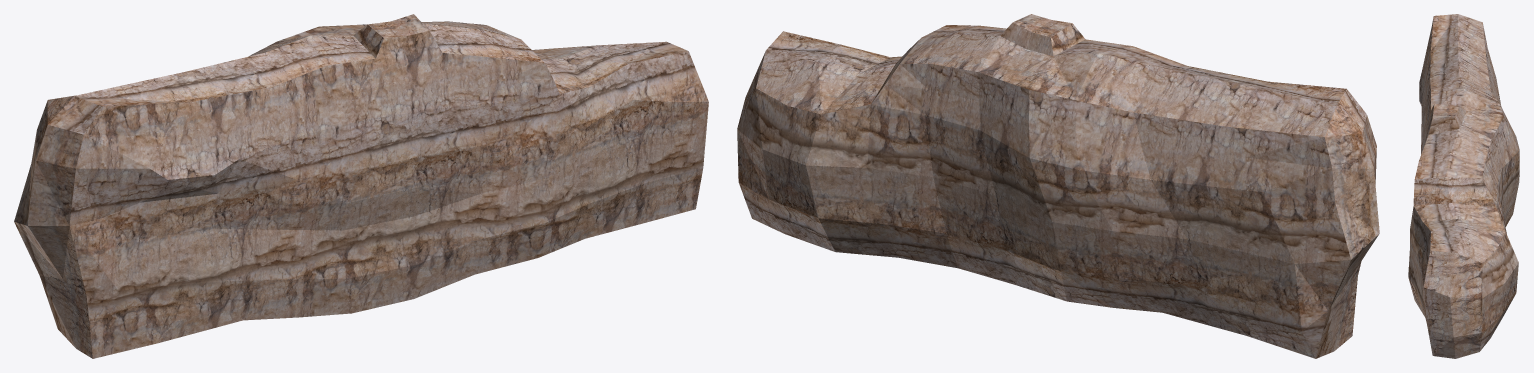
Rendered from rockMountain.glb.
3 renders of one model, left to right at view 1: azimuth 30°, elevation 25°; view 2: azimuth 150°, elevation 25°; view 3: azimuth 270°, elevation 25°, orthographic. The views are drawn at different scales.
Visible parts, largest first — view 1: rockMountain; view 2: rockMountain; view 3: rockMountain.
Part boxes in pixels (x1,y1,x2,y2): rockMountain: [14, 14, 708, 358]; rockMountain: [737, 14, 1379, 358]; rockMountain: [1408, 14, 1519, 358].
Bounding box in the file's own units: 22.59 × 8.74 × 5.2.
Materials: 1 (1 with a texture image).
